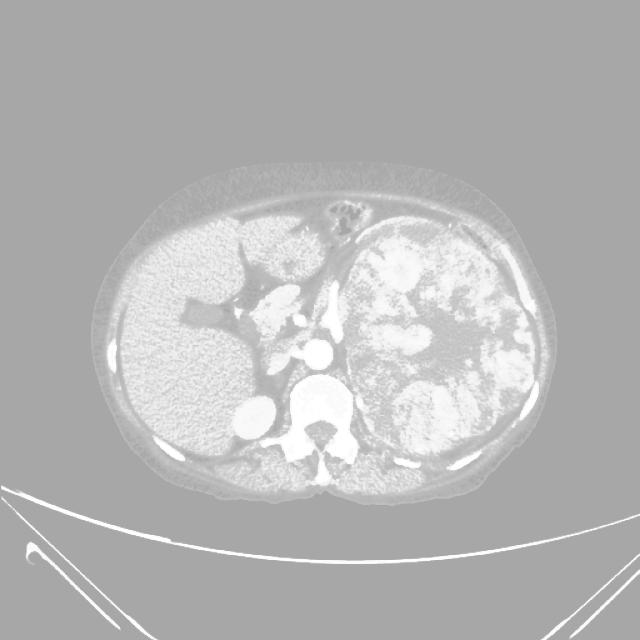TUMOR: (300, 157, 515, 430)
